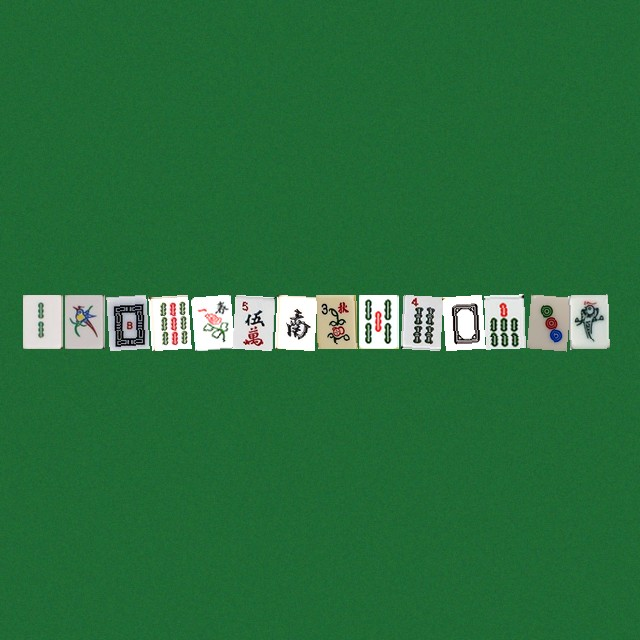tile: (22, 294, 62, 348), (64, 294, 104, 348), (106, 294, 146, 348), (148, 294, 188, 348), (190, 294, 230, 348), (232, 294, 272, 348), (274, 294, 314, 348), (316, 294, 356, 348), (358, 294, 398, 348), (400, 294, 440, 348), (442, 294, 482, 348), (484, 294, 524, 348), (526, 294, 566, 348), (568, 294, 608, 348)
